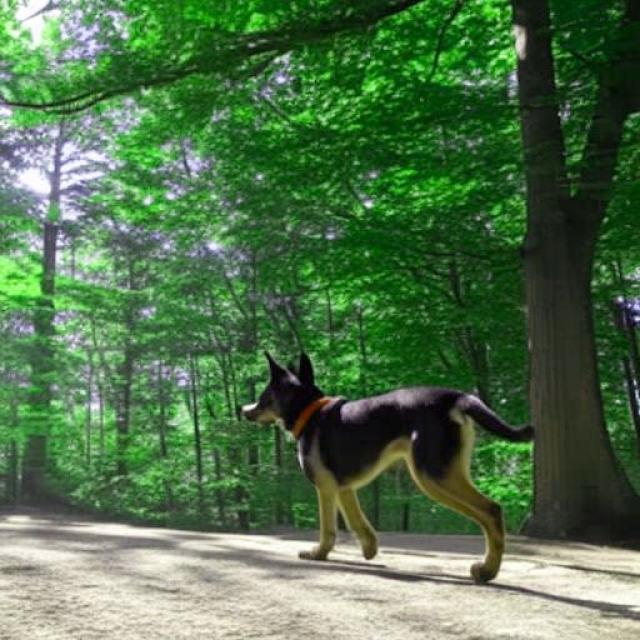Dog: (241, 351, 535, 581)
